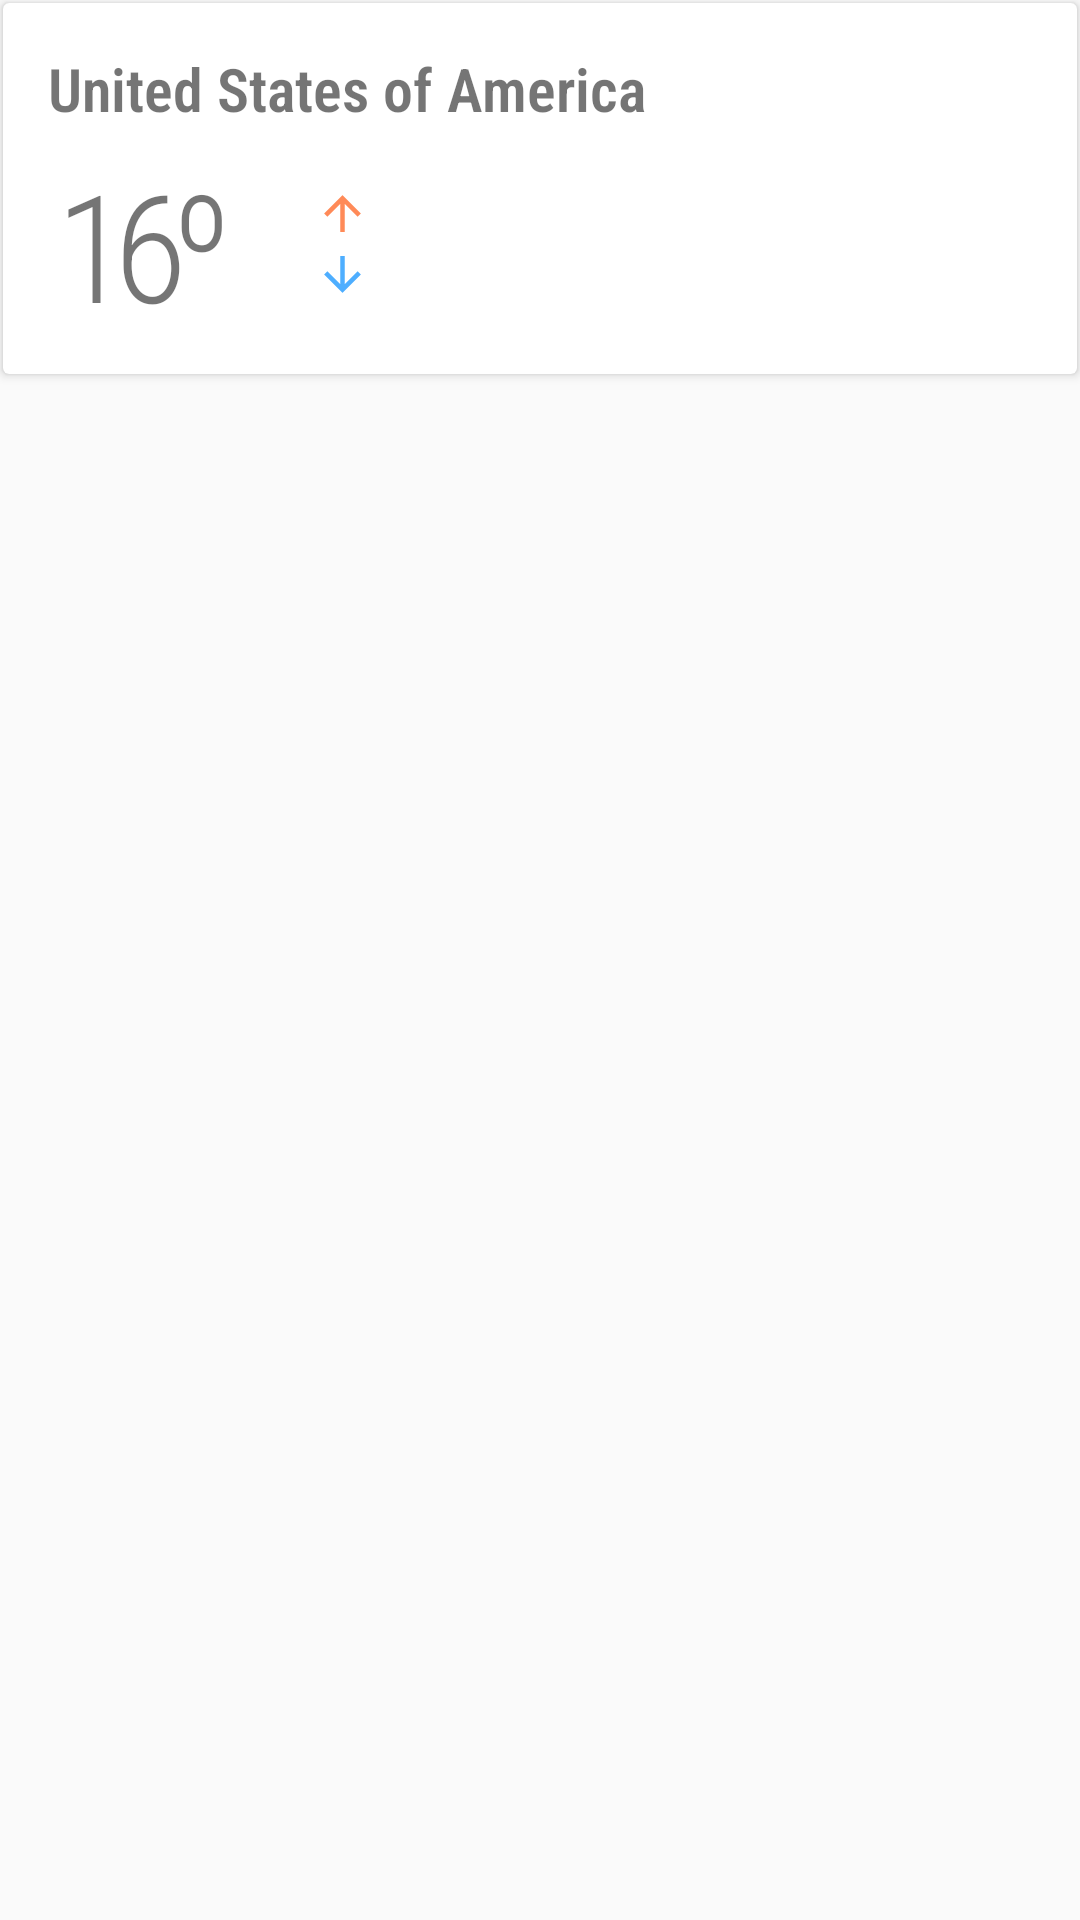

Locate icon controls on the screen. Image size 1080 x 1920, boxes as bbox(x1, y1, x2, y2).
arrow down: bbox(324, 256, 361, 293)
arrow up: bbox(324, 195, 361, 232)
